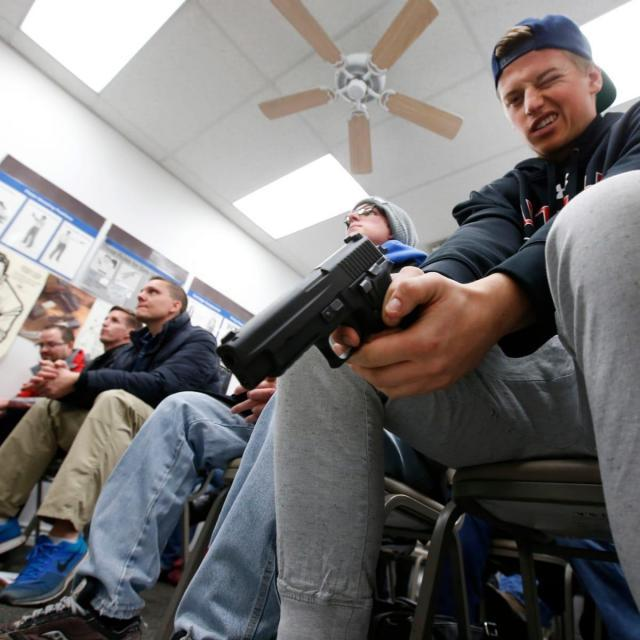gun: (218, 235, 424, 391)
